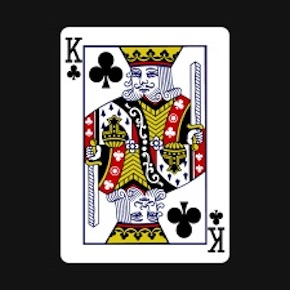KingOfClubs: (56, 22, 234, 267)
